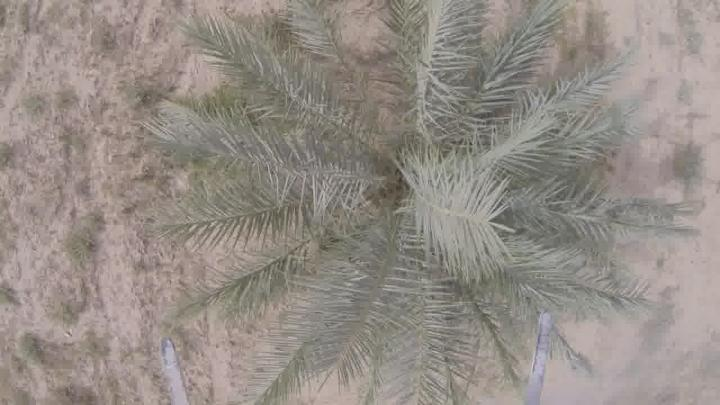Date-Palm-Crown: (257, 72, 559, 327)
